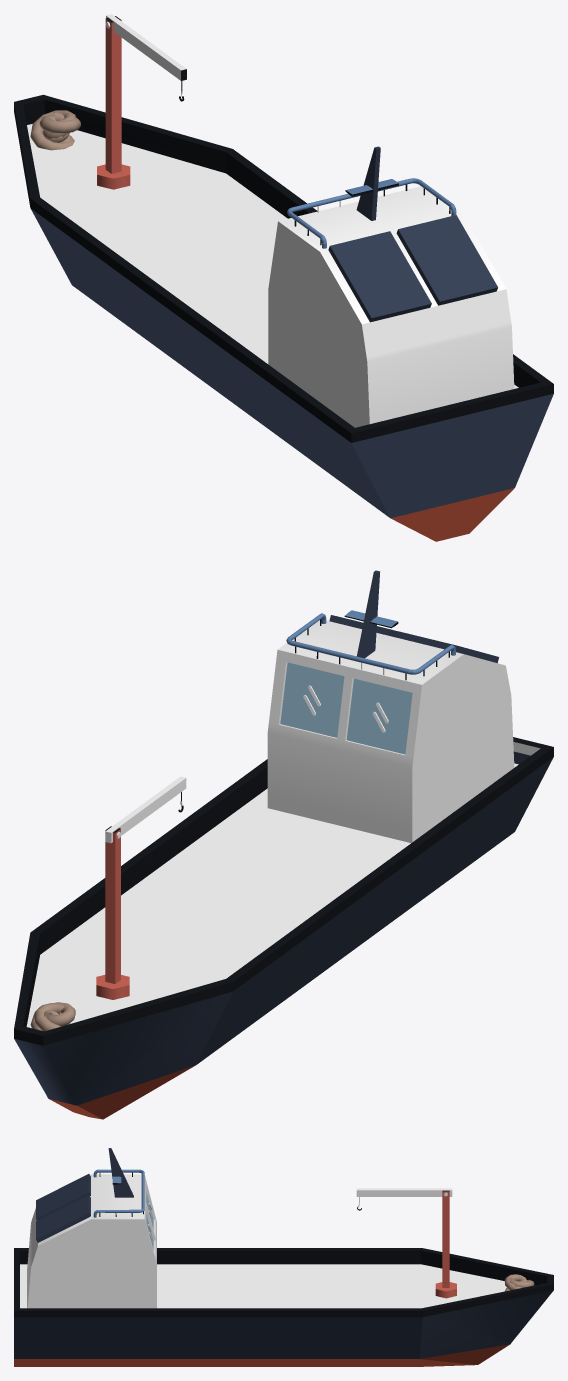
File: boat_boxes.fbx
3 renders of one model, top to bottom at view 1: azimuth 30°, elevation 25°; view 2: azimuth 150°, elevation 25°; view 3: azimuth 270°, elevation 25°, orthographic. The views are drawn at different scales.
Visible parts, largest first — view 1: boat_boxes; view 2: boat_boxes; view 3: boat_boxes.
Boxes of the visible parts, x1=… form: boat_boxes: x1=14, y1=14, x2=553, y2=541; boat_boxes: x1=14, y1=570, x2=553, y2=1119; boat_boxes: x1=14, y1=1148, x2=553, y2=1366.
Bounding box in the file's own units: 280 × 442 × 1016.
Materials: 1 (1 with a texture image).
